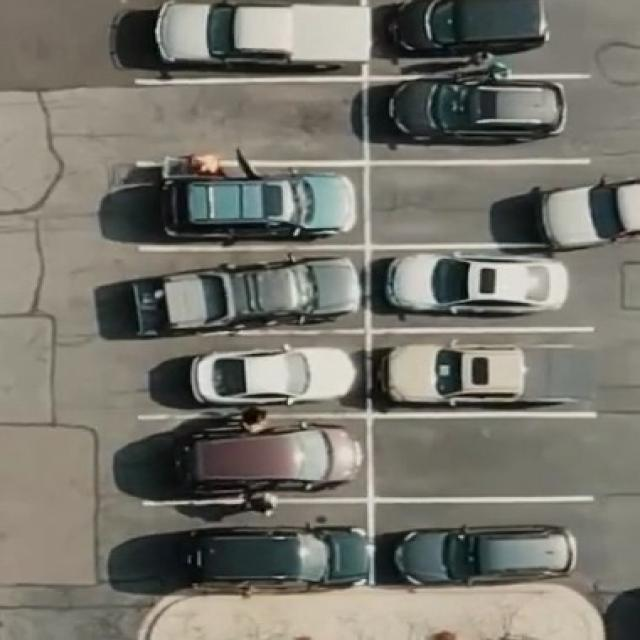space-empty: (362, 157, 592, 254), (130, 74, 363, 167), (369, 414, 598, 502)
space-occupied: (116, 498, 372, 595), (120, 242, 367, 337), (126, 412, 369, 503), (367, 323, 600, 416), (364, 68, 586, 161), (140, 157, 367, 245), (123, 1, 369, 80), (372, 497, 590, 586), (369, 240, 581, 328), (118, 339, 366, 413), (369, 0, 554, 72)
